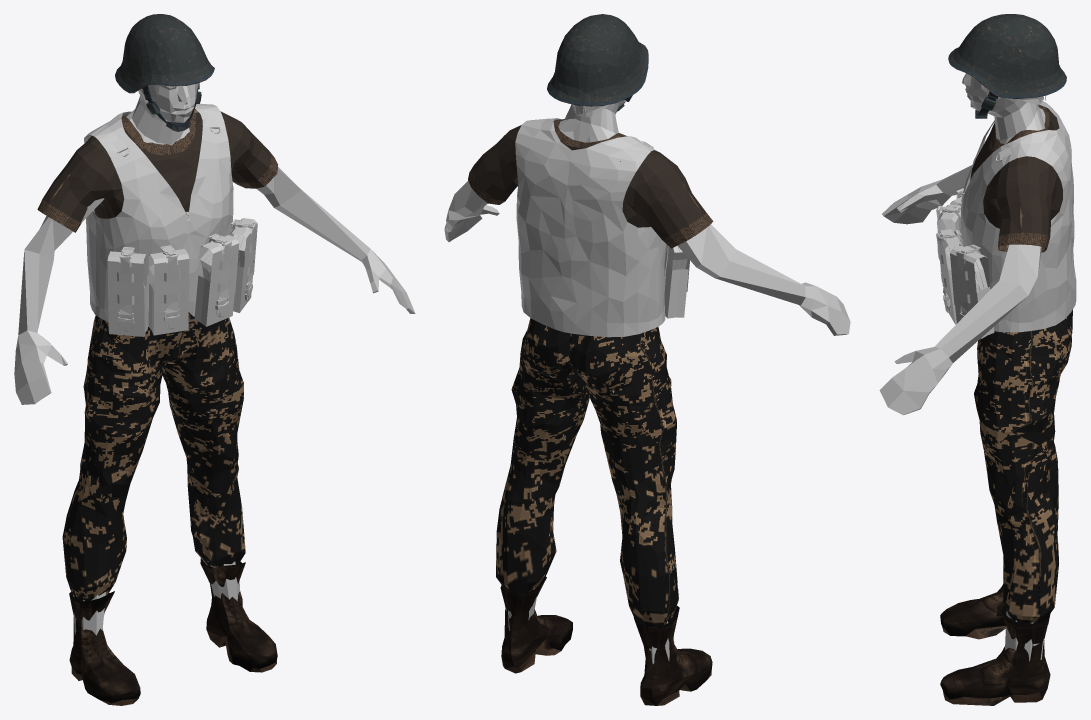
The model's file is soldier1.fbx.
The picture shows the model from 3 angles, left to right: view 1: azimuth 30°, elevation 25°; view 2: azimuth 150°, elevation 25°; view 3: azimuth 270°, elevation 25°; orthographic projection.
Parts seen in each view (by area): view 1: soldier2; view 2: soldier2; view 3: soldier2.
Boxes of the visible parts, x1,y1,x2,y2 form: soldier2: [14, 14, 415, 705]; soldier2: [444, 14, 850, 705]; soldier2: [879, 14, 1076, 705].
Size of the model in its own units: 388 by 613 by 169.
